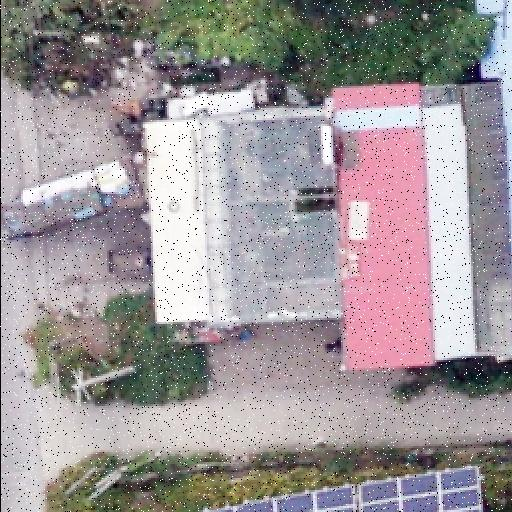solar-panel: (358, 468, 482, 512), (196, 484, 356, 512)
